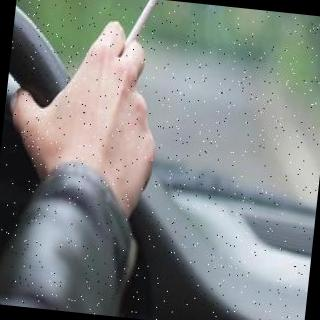smoke: (77, 0, 302, 20)
